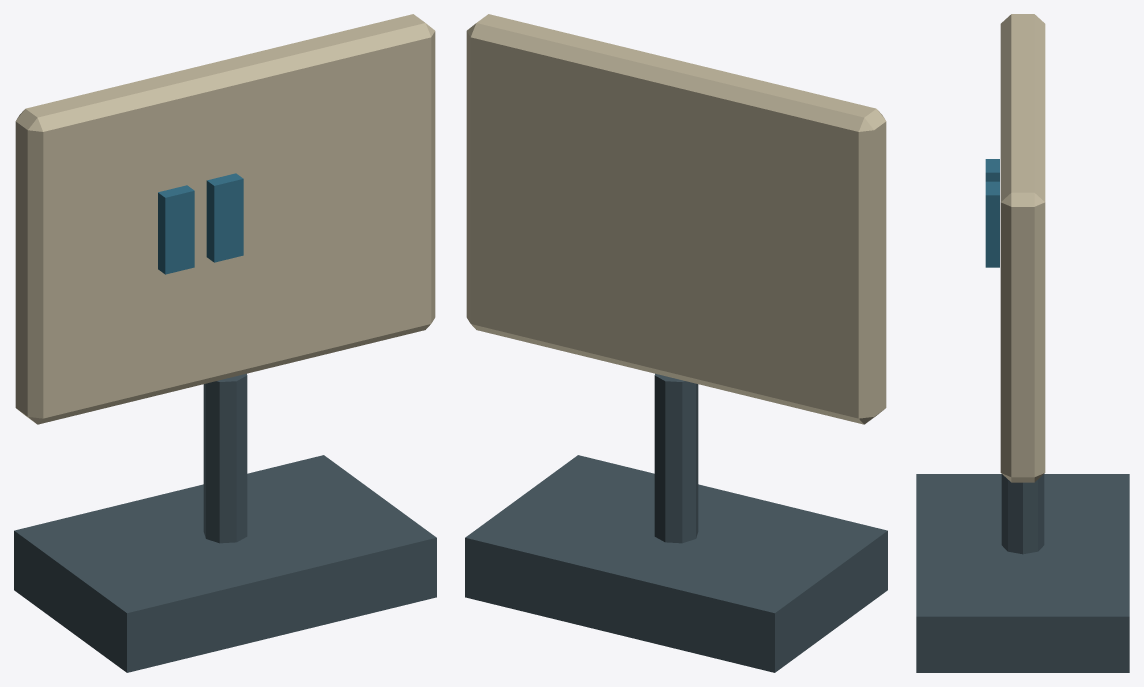
Rendered from set_opening_hours_board.glb.
3 views of the same model, side by side, from view 1: azimuth 30°, elevation 25°; view 2: azimuth 150°, elevation 25°; view 3: azimuth 270°, elevation 25° (orthographic). The views are drawn at different scales.
Parts seen in each view (by area): view 1: set_opening_hours_board; view 2: set_opening_hours_board; view 3: set_opening_hours_board.
Part boxes in pixels (x1=…): set_opening_hours_board: x1=14, y1=14, x2=436, y2=672; set_opening_hours_board: x1=465, y1=14, x2=887, y2=672; set_opening_hours_board: x1=916, y1=14, x2=1129, y2=672.
Bounding box in the file's own units: 0.25 × 0.3095 × 0.12.
